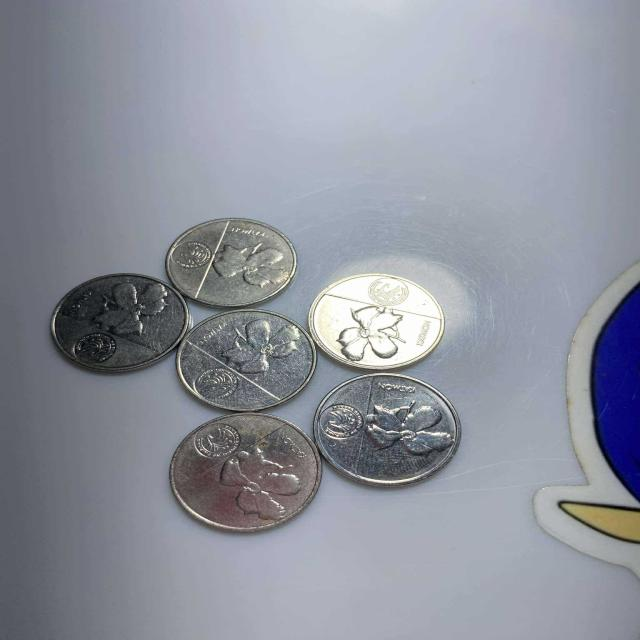25Cent_New_Back: (200, 437, 316, 524), (323, 294, 432, 366), (216, 316, 314, 384), (359, 401, 459, 466), (92, 280, 178, 338), (210, 234, 288, 293)
